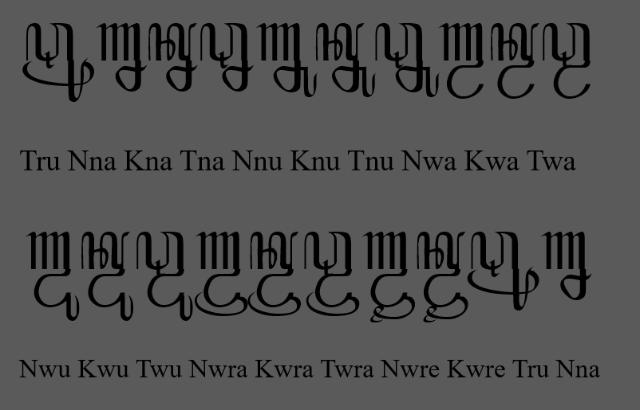Kn: (146, 22, 198, 92)
Knu: (316, 22, 376, 98)
Kw: (490, 22, 540, 100)
Kwr: (247, 231, 301, 318)
Kwre: (416, 232, 468, 324)
Kwu: (80, 232, 134, 322)
Nn: (538, 231, 592, 301), (96, 23, 148, 92)
Nnu: (256, 22, 318, 98)
Nw: (438, 22, 484, 100)
Nwr: (194, 233, 248, 318)
Nwre: (362, 232, 416, 324)
Nwu: (26, 232, 80, 322)
Tn: (198, 22, 254, 92)
Tnu: (374, 21, 440, 99)
Tru: (466, 231, 540, 311), (22, 21, 94, 103)
Tw: (542, 21, 592, 100)
Twr: (304, 231, 360, 318)
Twu: (136, 232, 194, 322)
